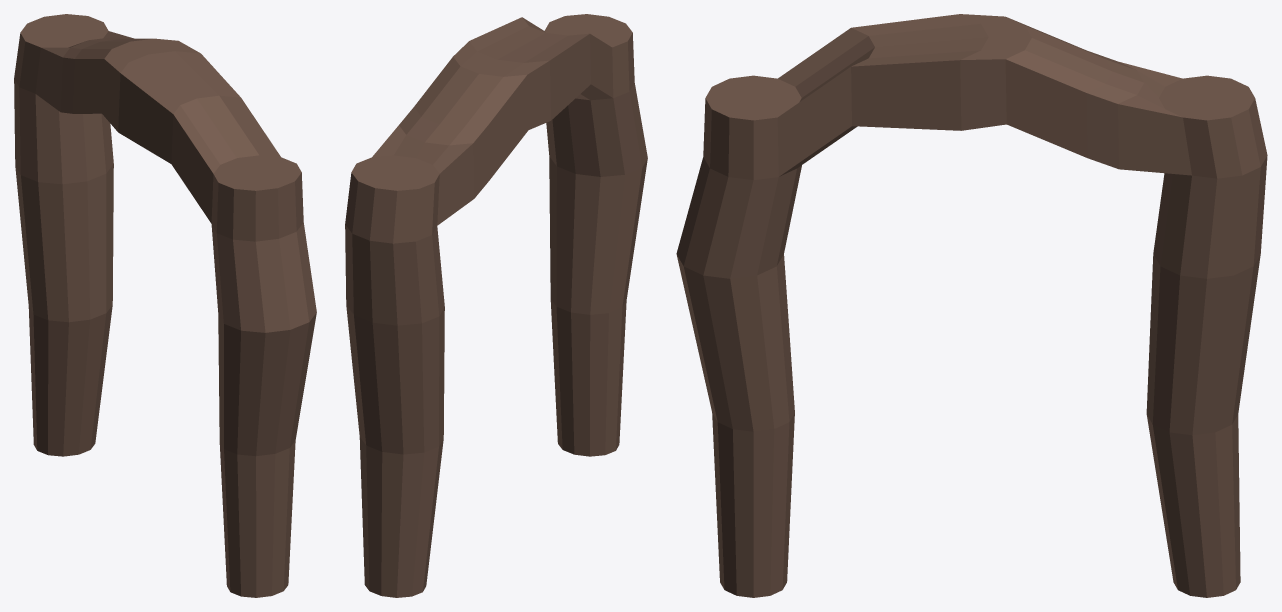
Rendered from TRAVES.fbx.
3 views of the same model, side by side, from view 1: azimuth 30°, elevation 25°; view 2: azimuth 150°, elevation 25°; view 3: azimuth 270°, elevation 25° (orthographic). The views are drawn at different scales.
Parts seen in each view (by area): view 1: Cylinder.002; view 2: Cylinder.002; view 3: Cylinder.002.
Boxes of the visible parts, x1,y1,x2,y2 form: Cylinder.002: [14, 14, 316, 597]; Cylinder.002: [345, 14, 647, 597]; Cylinder.002: [676, 14, 1267, 597].
Size of the model in its own units: 436 by 2027 by 2010.
